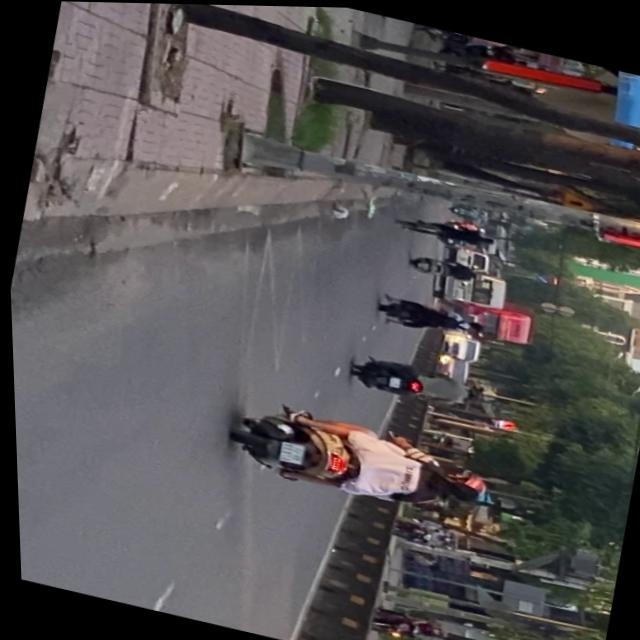helmet: (441, 469, 486, 492)
licenseplate: (219, 392, 495, 525)
motorcyclist: (428, 472, 481, 506)
nohelmet: (277, 440, 302, 464)
